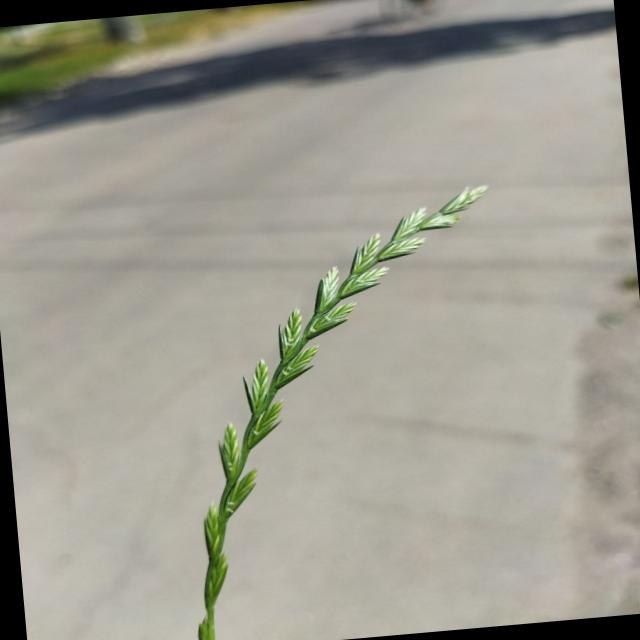Lolium: (156, 181, 529, 640)
